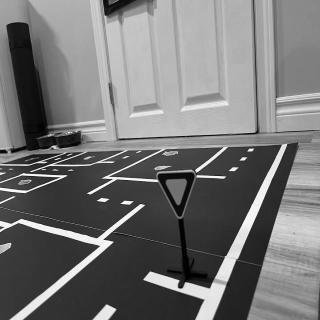sign_yield: (158, 171, 197, 221)
